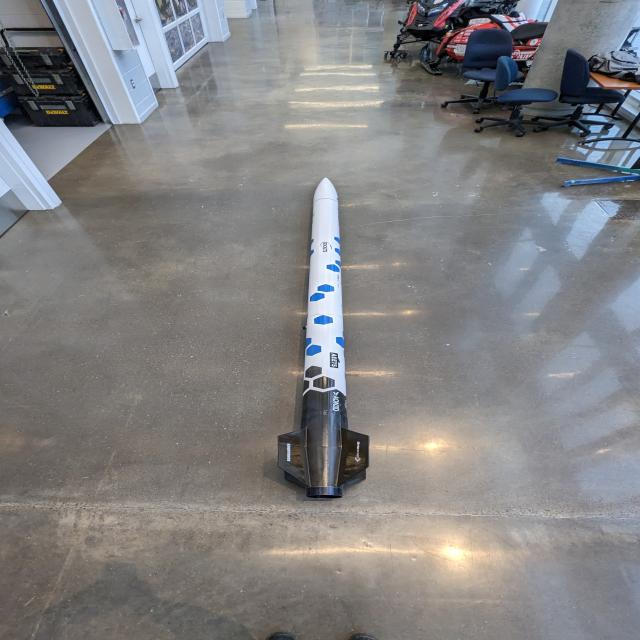Rocket: (277, 176, 370, 499)
